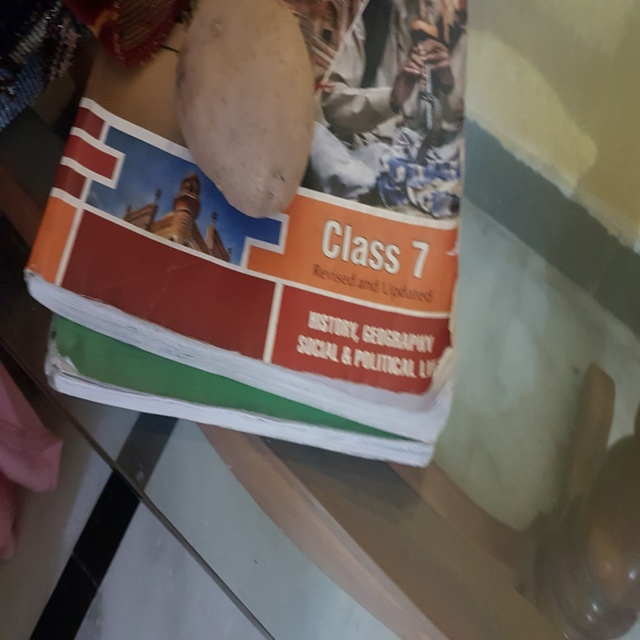potato: (166, 1, 317, 221)
